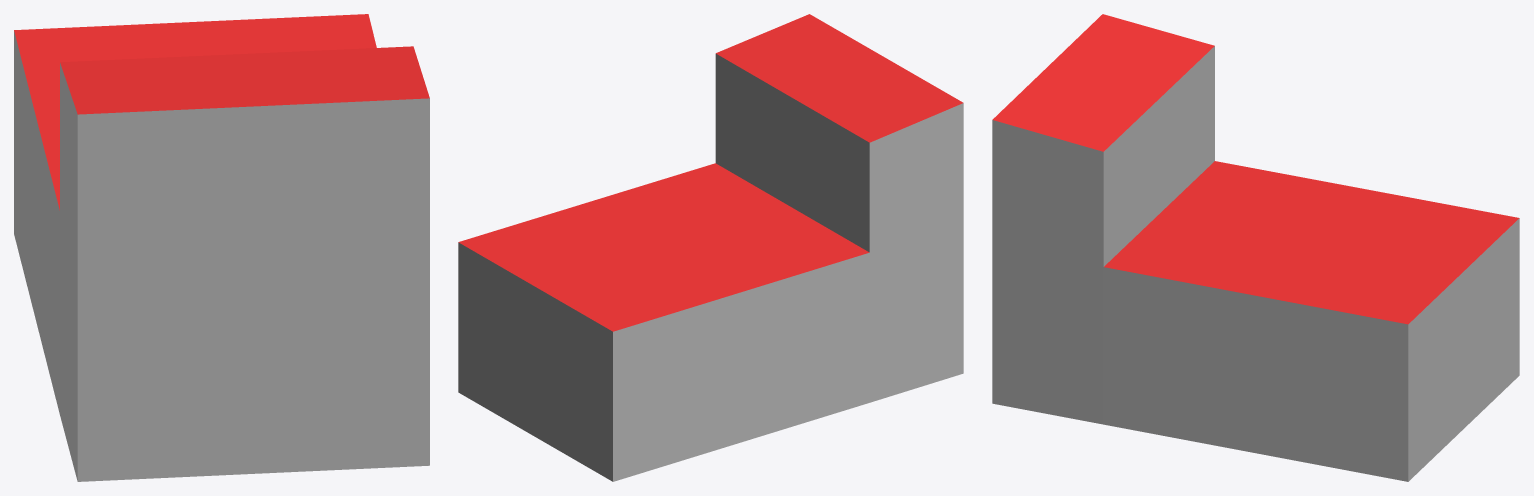
The model's file is DEBY_LOD2_4908163.dae.
3 renders of one model, left to right at view 1: azimuth 30°, elevation 25°; view 2: azimuth 150°, elevation 25°; view 3: azimuth 270°, elevation 25°, orthographic. The views are drawn at different scales.
Size of the model in its own units: 9.24 by 11.18 by 6.64.
